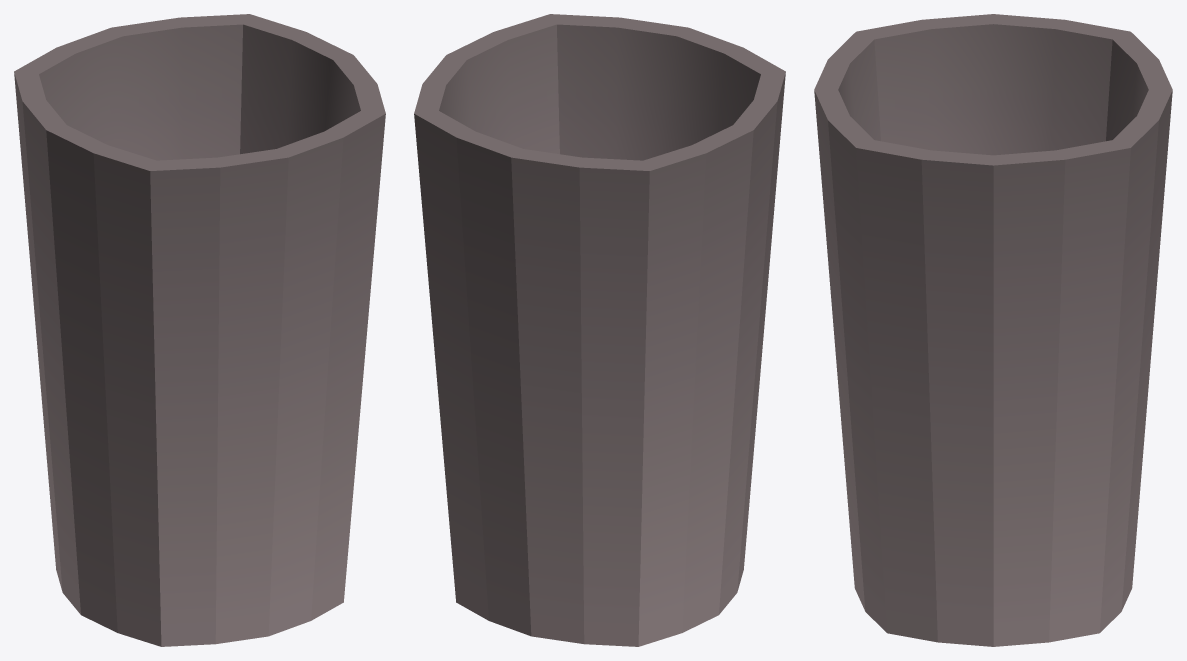
The model's file is PlantPot_52.fbx.
The picture shows the model from 3 angles, left to right: view 1: azimuth 30°, elevation 25°; view 2: azimuth 150°, elevation 25°; view 3: azimuth 270°, elevation 25°; orthographic projection.
Visible parts, largest first — view 1: PlantPot_52; view 2: PlantPot_52; view 3: PlantPot_52.
Part boxes in pixels (box(x1,y1,x2,y2)): PlantPot_52: box(14, 14, 385, 646); PlantPot_52: box(414, 14, 785, 646); PlantPot_52: box(814, 14, 1172, 646).
Bounding box in the file's own units: 13.21 × 20.26 × 13.21.
